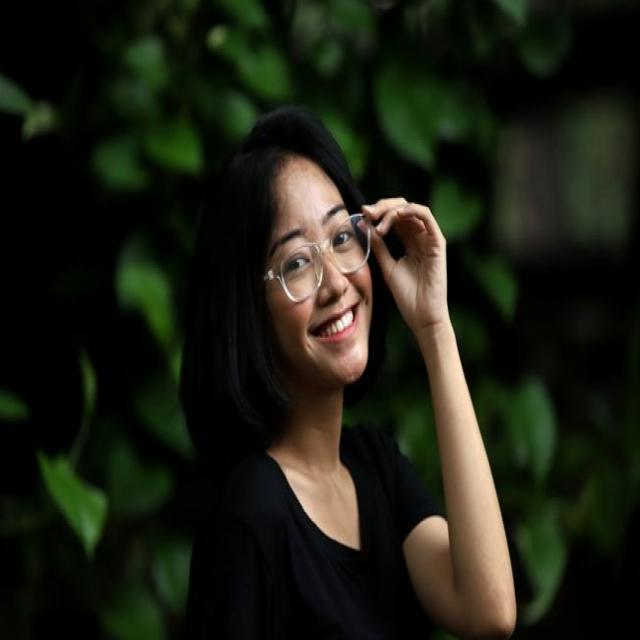Glasses: (258, 203, 376, 308)
